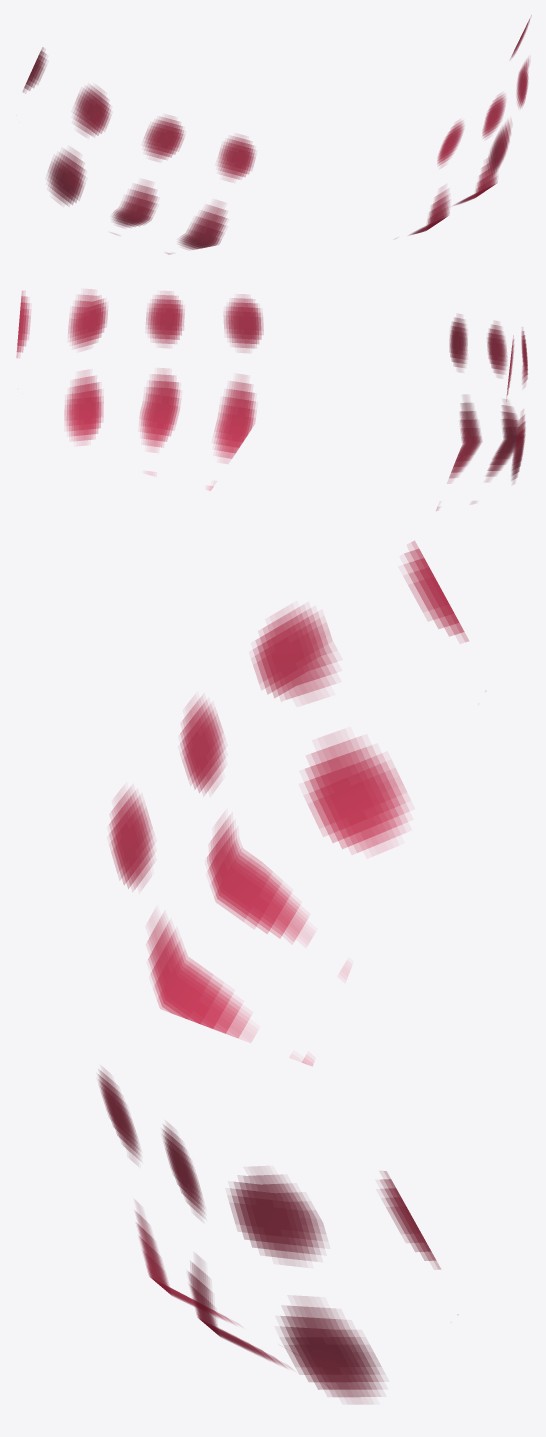
The picture shows the model from 3 angles, top to bottom: view 1: azimuth 30°, elevation 25°; view 2: azimuth 150°, elevation 25°; view 3: azimuth 270°, elevation 25°; orthographic projection. The views are drawn at different scales.
Visible parts, largest first — view 1: ef_518; view 2: ef_518; view 3: ef_518.
Boxes of the visible parts, <box> form: ef_518: <box>22,15,531,254</box>; ef_518: <box>16,289,527,510</box>; ef_518: <box>98,541,468,1403</box>.
Bounding box in the file's own units: 0.8197 × 0.3993 × 0.3158.
1 material, 1 textured.
